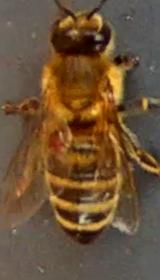varroa_mite: (36, 126, 79, 157)
